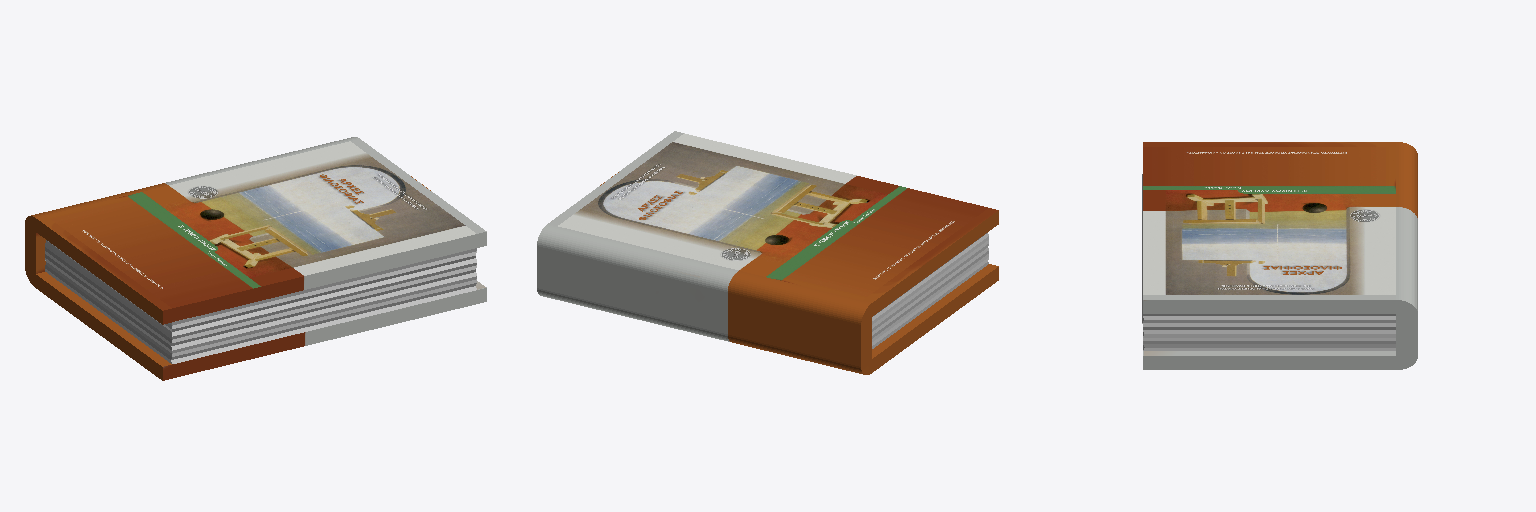
3 renders of one model, left to right at view 1: azimuth 30°, elevation 25°; view 2: azimuth 150°, elevation 25°; view 3: azimuth 270°, elevation 25°, orthographic.
Visible parts, largest first — view 1: Cube001_2, Cube001, Cube001_1; view 2: Cube001_2, Cube001, Cube001_1; view 3: Cube001_2, Cube001, Cube001_1.
Boxes of the visible parts, <box> form: Cube001_2: <box>46,141,475,307</box>; Cube001: <box>25,137,486,380</box>; Cube001_1: <box>45,240,476,363</box>; Cube001_2: <box>558,133,987,300</box>; Cube001: <box>537,131,998,374</box>; Cube001_1: <box>872,233,988,348</box>; Cube001_2: <box>1143,147,1395,294</box>; Cube001: <box>1143,142,1417,369</box>; Cube001_1: <box>1142,174,1395,350</box>.
Size of the model in its own units: 186 by 38.44 by 137.
3 materials, 2 textured.